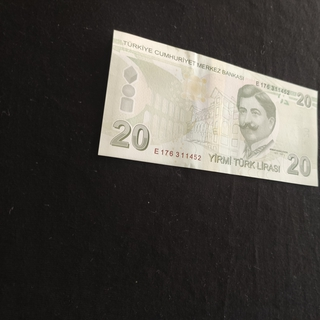20TLBack: (98, 28, 319, 187)
